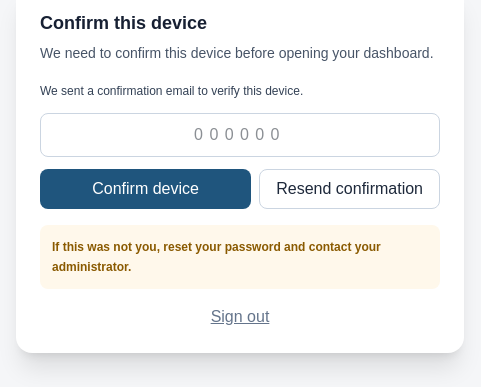
it: DeviceGate › confirms with the emailed code, then hands back to reload the session
Step 1. Type "482913" into the field named "Code from the email" → (240, 135), box [40,113,440,157]
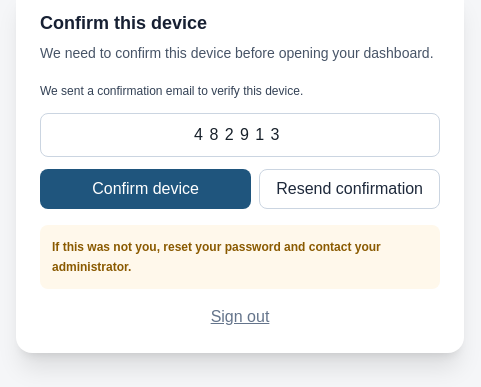
Step 2. Click the button "Confirm device" → (146, 189), box [40,169,251,209]
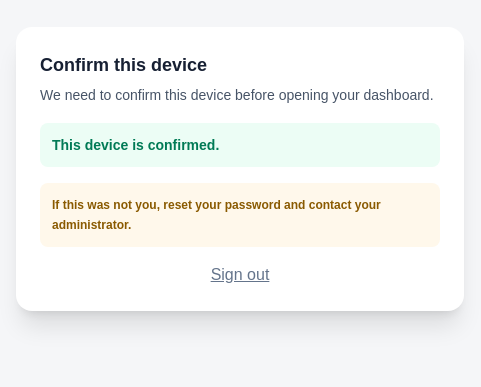
expect the text "This device is confirmed." is shown: met, box [40,123,440,167]
